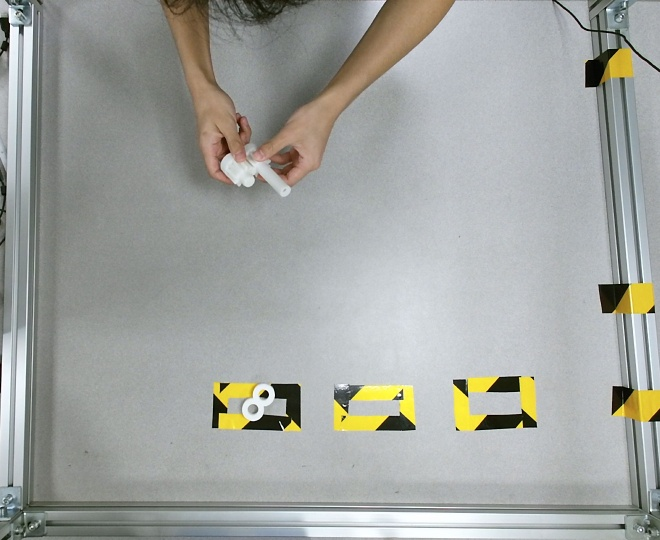stage_3: (221, 142, 291, 195)
